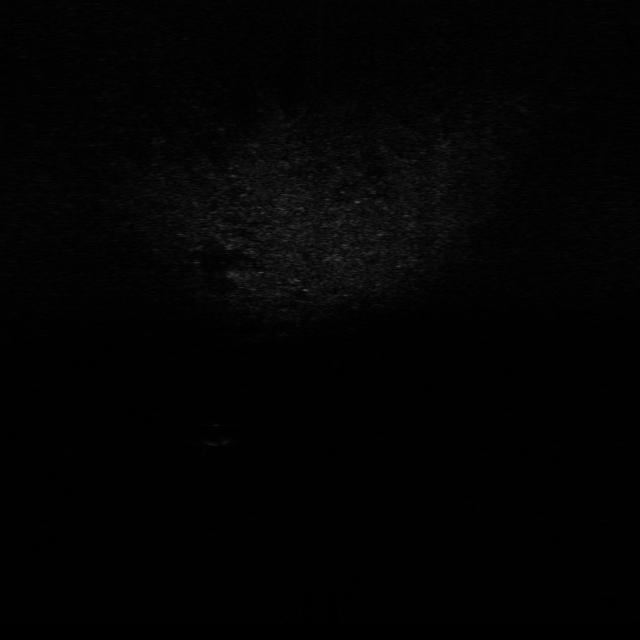ball: (198, 422, 233, 448)
